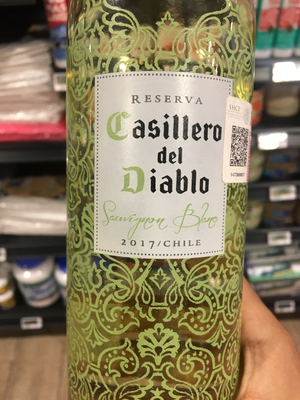casillero del diablo sauvignon blanc: (49, 8, 255, 400)
